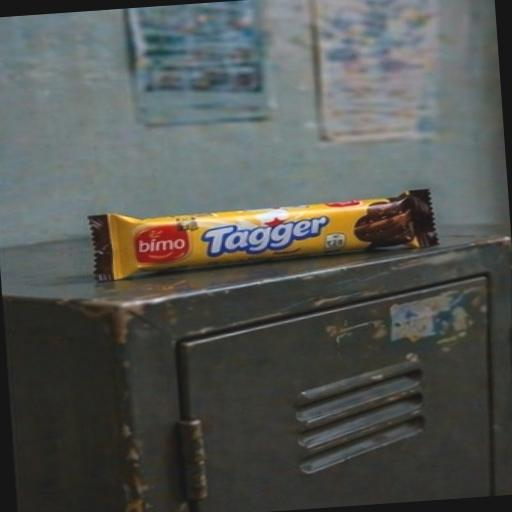tagger: (60, 129, 484, 320)
